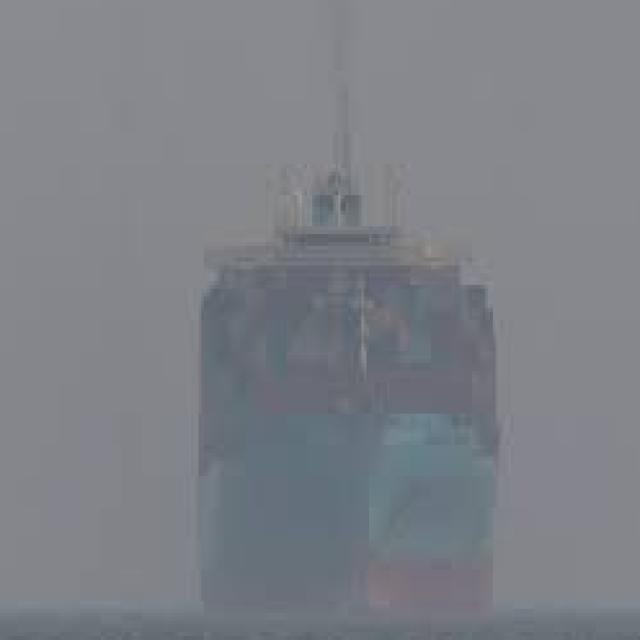cargoship: (185, 121, 506, 604)
